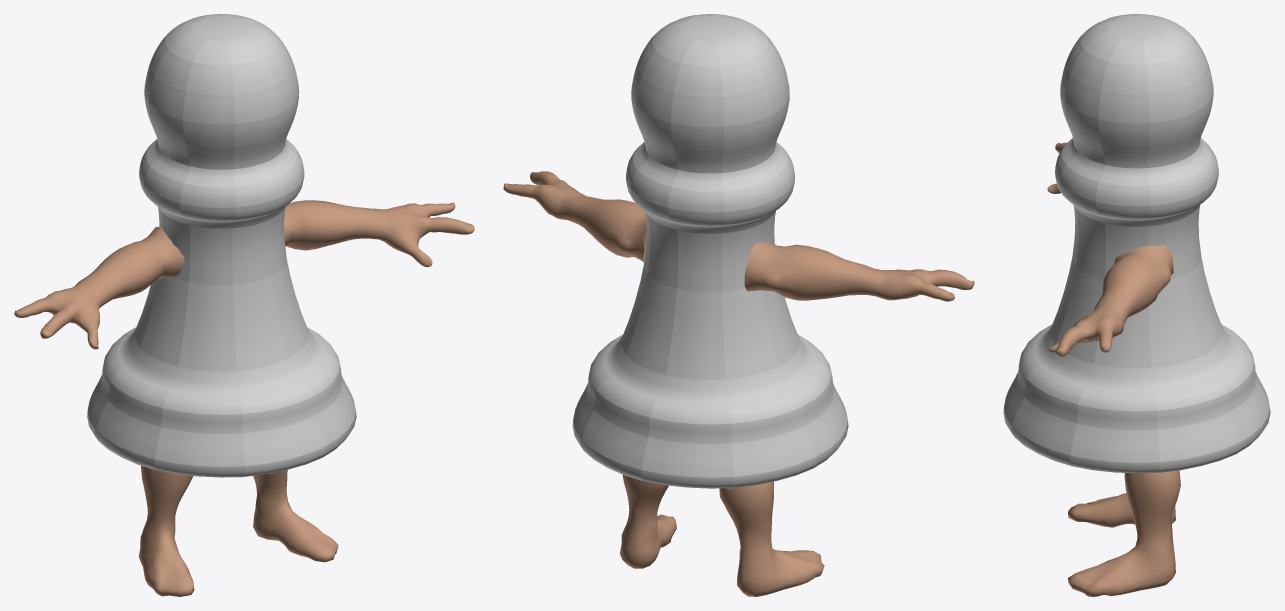
The model's file is Main Char.fbx.
3 renders of one model, left to right at view 1: azimuth 30°, elevation 25°; view 2: azimuth 150°, elevation 25°; view 3: azimuth 270°, elevation 25°, orthographic. The views are drawn at different scales.
Visible parts, largest first — view 1: Main Char; view 2: Main Char; view 3: Main Char.
Part boxes in pixels (x1,y1,x2,y2): Main Char: (14, 14, 474, 596); Main Char: (503, 14, 974, 596); Main Char: (1003, 14, 1270, 596).
Size of the model in its own units: 10.81 by 12.51 by 5.73.
